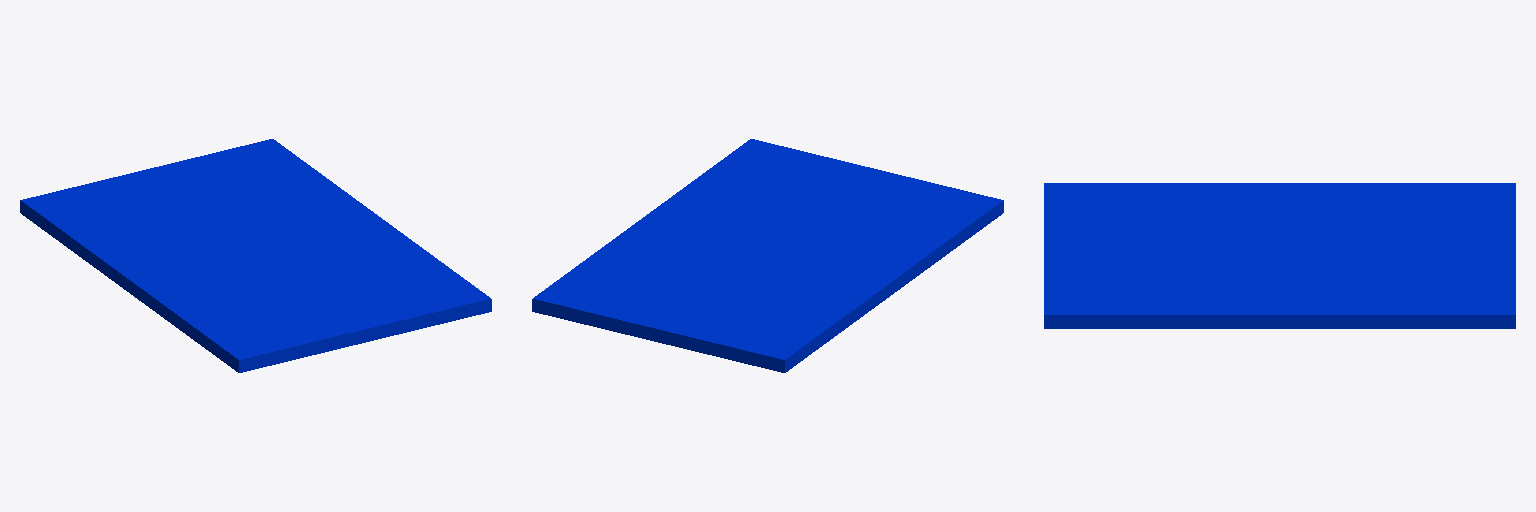
The robot description file, URDF, robot "box":
<?xml version="1.0"?>
<robot name="box">
<link name="world"/>
  <joint name="fixed" type="fixed">
    <parent link="world"/>
    <child link="box"/>
  </joint>
  <link name="box">
    <inertial>
     <origin
        xyz="0 0 0"
        rpy="0 0 0" />
      <mass value="1"/>
      <!-- Inertia values were calculated to be consistent with the mass and
           geometry size, assuming a uniform density. -->
      <inertia ixx="0.0108" ixy="0" ixz="0" iyy="0.0083" iyz="0" izz="0.0042"/>
    </inertial>
    <visual>
        <origin
        xyz="0 0 0"
        rpy="0 0 0" />
      <geometry>
        <box size=".04 .06 .002"/>
      </geometry>
      <material name="blue">
           <color rgba="0.011764705882352941 0.2627450980392157 0.8745098039215686 1.0"/>
      </material>
    </visual>
    <collision name="box">
      <geometry>
        <box size=".00001 .00001 .00001"/>
      </geometry>
    </collision>
  </link>
</robot>

--- What the picture shows (computed from the rendered views, not written in the file) ---
Views: 3 orthographic renders of the robot side by side, from view 1: azimuth 30°, elevation 25°; view 2: azimuth 150°, elevation 25°; view 3: azimuth 270°, elevation 25°.
Model box with 2 links and 1 joints (1 fixed), rooted at world, posed all joints at 0.
Visible links, largest first — view 1: box; view 2: box; view 3: box.
Link boxes in pixels (left/top/right/bottom): box: left=20, top=139, right=491, bottom=372; box: left=532, top=139, right=1003, bottom=372; box: left=1044, top=183, right=1515, bottom=328.
Size in the robot's own frame: 0.04 by 0.06 by 0.002 metres.
Geometry: primitives only (box / cylinder / sphere), no mesh files.